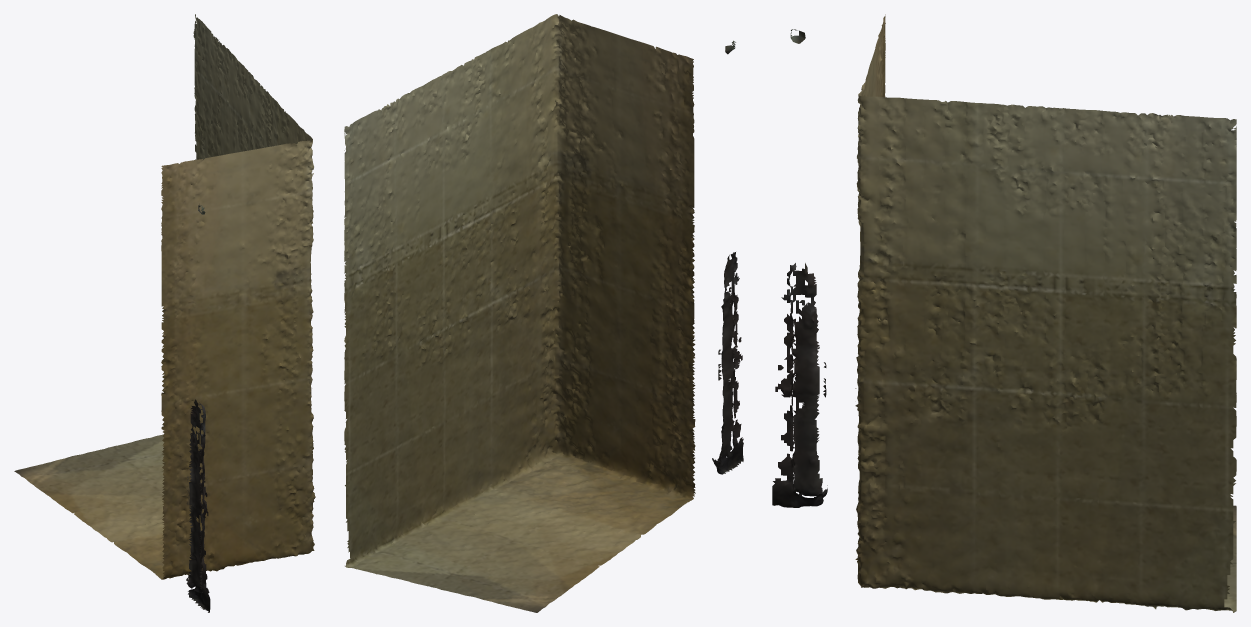
The model's file is fine.glb.
3 renders of one model, left to right at view 1: azimuth 30°, elevation 25°; view 2: azimuth 150°, elevation 25°; view 3: azimuth 270°, elevation 25°, orthographic. The views are drawn at different scales.
Bounding box in the file's own units: 0.7442 × 1.63 × 1.38.
